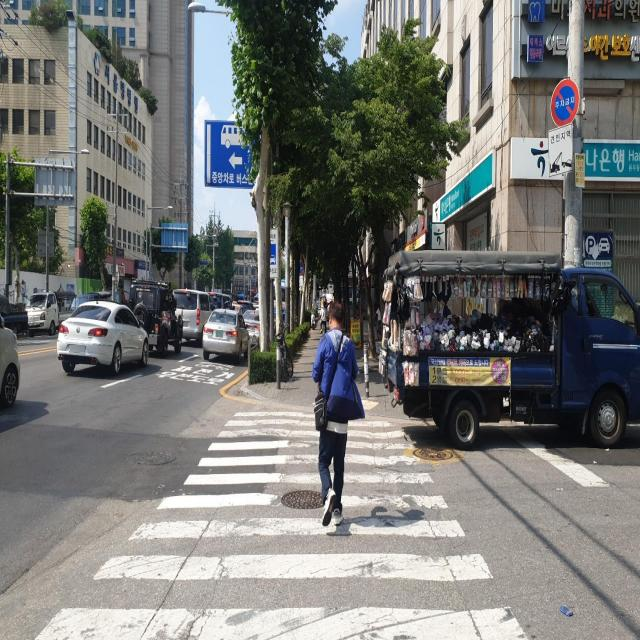횡단보도: (32, 414, 534, 639)
